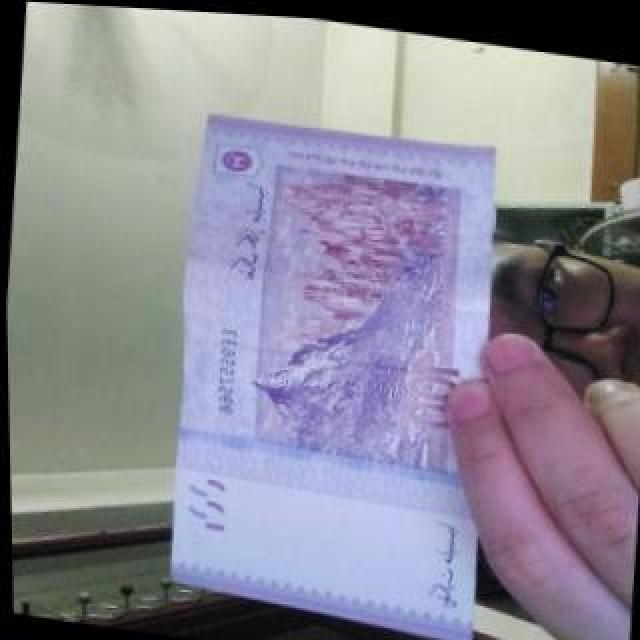100 Ringgit: (146, 98, 511, 639)
